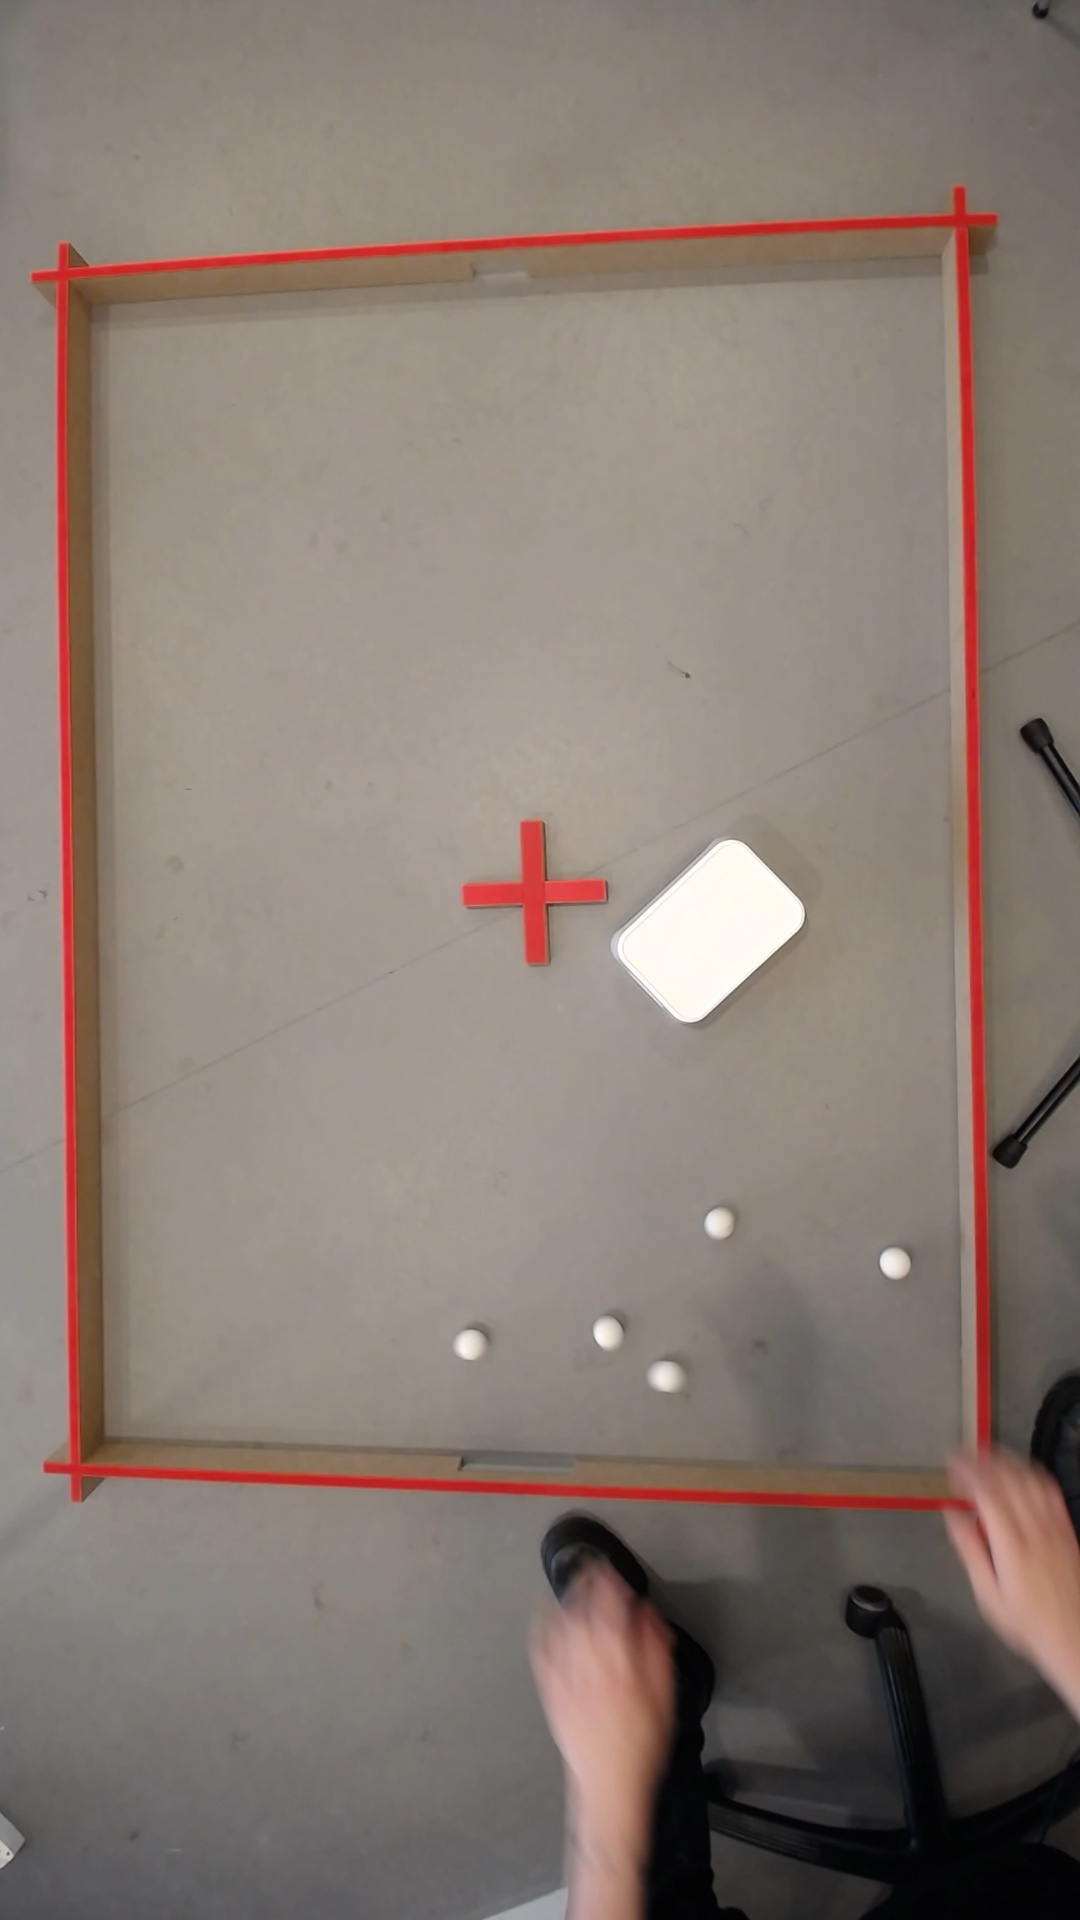balls: (604, 827, 814, 1035), (541, 1639, 633, 1833), (977, 1501, 1029, 1614), (874, 1245, 910, 1280), (646, 1358, 682, 1394), (700, 1207, 732, 1238), (589, 1317, 617, 1349), (455, 1332, 479, 1358)
car: (968, 1563, 993, 1593)
